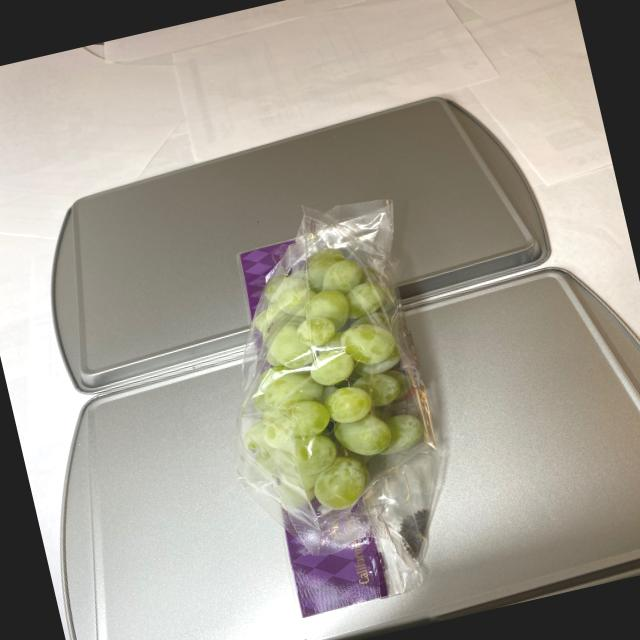grapes: (207, 224, 440, 529)
